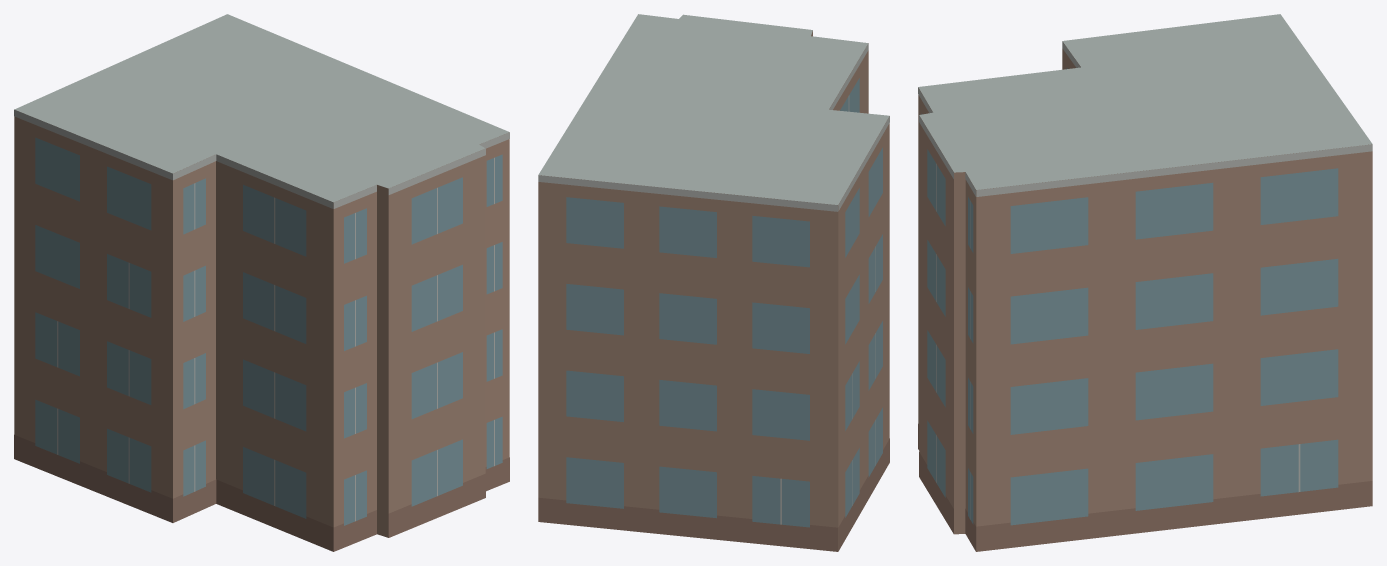
The model's file is survey-upis-32593045.glb.
3 renders of one model, left to right at view 1: azimuth 30°, elevation 25°; view 2: azimuth 150°, elevation 25°; view 3: azimuth 270°, elevation 25°, orthographic. The views are drawn at different scales.
Parts seen in each view (by area): view 1: survey-upis-32593045.tmp; view 2: survey-upis-32593045.tmp; view 3: survey-upis-32593045.tmp.
Boxes of the visible parts, box(x1,y1,x2,y2) form: survey-upis-32593045.tmp: box(14, 14, 509, 551); survey-upis-32593045.tmp: box(538, 14, 889, 551); survey-upis-32593045.tmp: box(918, 14, 1372, 551).
Bounding box in the file's own units: 13.05 × 12.5 × 14.24.
